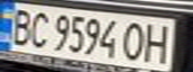4: (96, 17, 124, 60)
5: (66, 12, 87, 54)
9: (45, 11, 72, 52), (81, 15, 103, 56)
B: (3, 6, 36, 47)
C: (24, 8, 54, 50)
H: (139, 19, 175, 64)
O: (118, 19, 151, 62)
